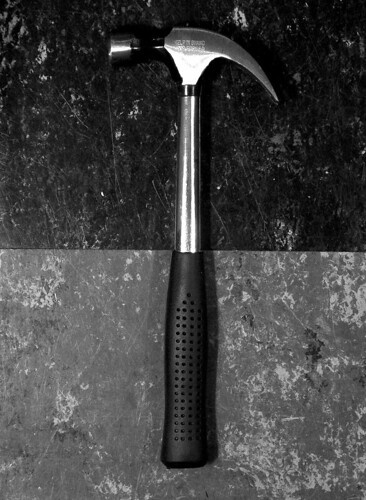hammer: (106, 26, 282, 473)
